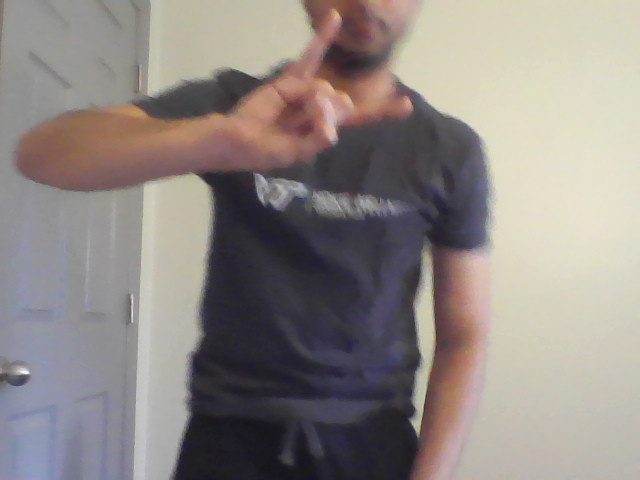help: (231, 6, 416, 173)
